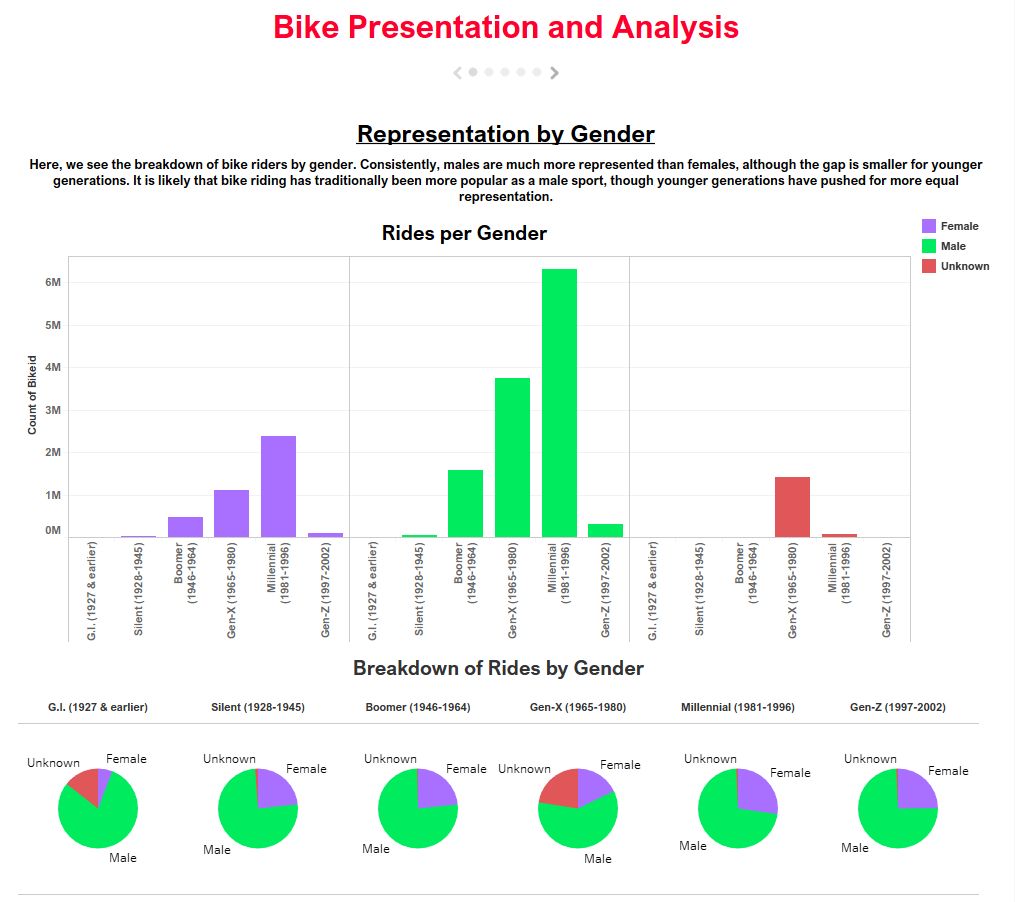

The page's visual inventory and layout, read from the dashboard file:
{"tool":"tableau","page":{"name":"Dashboard 1 - Gender","canvas":[1000,800],"ordinal":0},"visuals":[{"type":"worksheet","box":[0,0,1000,800]},{"type":"worksheet","box":[8,8,984,32]},{"type":"worksheet","box":[8,40,984,63]},{"type":"worksheet","param":"horz","box":[8,103,984,689]},{"type":"worksheet","box":[8,103,984,689]},{"type":"worksheet","title":"Rides per Gender","mark":"Automatic","rows":["bikeid"],"cols":["Gender Labels","Generation"],"box":[8,103,901,435.2]},{"type":"worksheet","param":"vert","box":[909,103,83,435.2]},{"type":"worksheet","title":"Rides per Gender","mark":"Automatic","rows":["bikeid"],"cols":["Gender Labels","Generation"],"param":"[federated.0fb5izm06oekec1do4cr21267vg4].[none:Gender Labels:nk]","box":[909,103,83,81]},{"type":"worksheet","title":"Breakdown of Rides by Gender","mark":"Pie","cols":["Generation"],"box":[8,538.2,984,253.8]}]}

Visuals, with their boxes on the page's 1000x800 design canvas (x1, y1, x2, y2). These are canvas units, not pixel positions in the 1015x902 screenshot, which may show the page scaled, cropped or inside an application window:
worksheet: (left=0, top=0, right=1000, bottom=800)
worksheet: (left=8, top=8, right=992, bottom=40)
worksheet: (left=8, top=40, right=992, bottom=103)
worksheet: (left=8, top=103, right=992, bottom=792)
worksheet: (left=8, top=103, right=992, bottom=792)
"Rides per Gender" worksheet: (left=8, top=103, right=909, bottom=538)
worksheet: (left=909, top=103, right=992, bottom=538)
"Rides per Gender" worksheet: (left=909, top=103, right=992, bottom=184)
"Breakdown of Rides by Gender" worksheet (Pie marks): (left=8, top=538, right=992, bottom=792)
